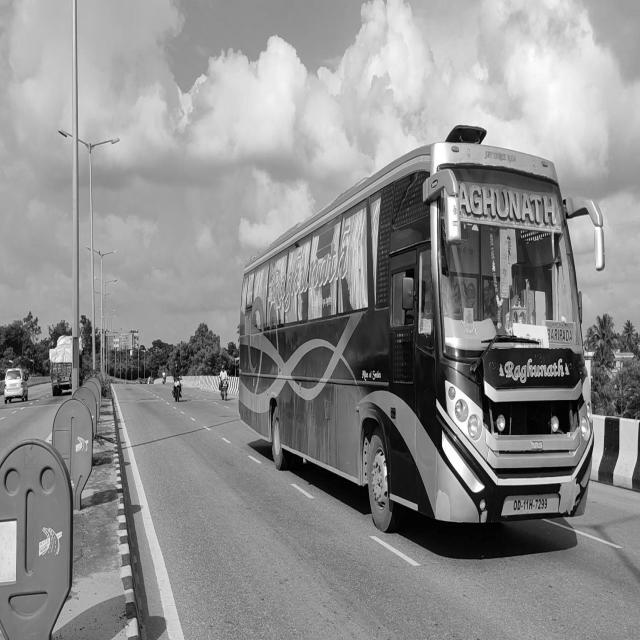bike: (161, 349, 200, 416), (212, 344, 238, 409)
bus: (235, 128, 640, 545), (235, 126, 604, 545)
car: (0, 345, 37, 419)
truck: (40, 322, 100, 403)
